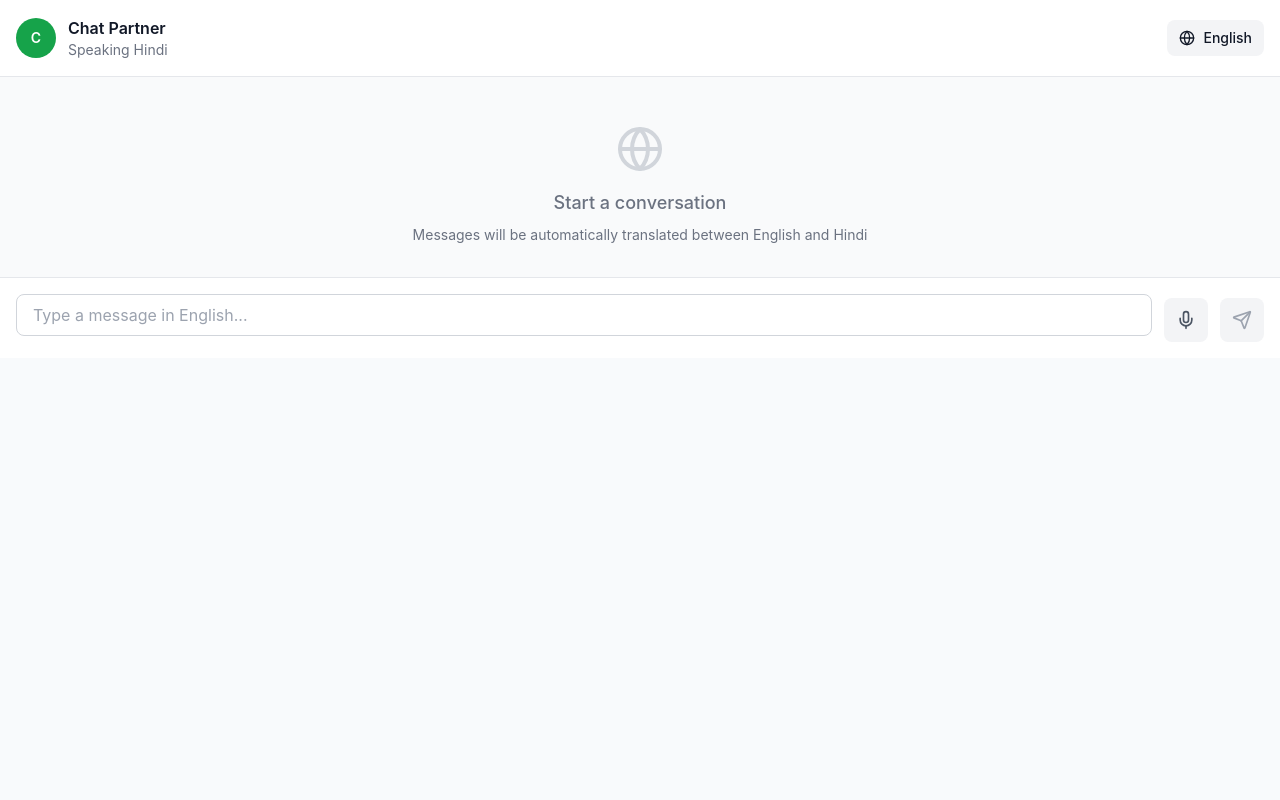
Test case: MultilingualChat › changes language selection
Click the button "English". click: {"x": 1216, "y": 38}
box: [1167,20,1264,56]
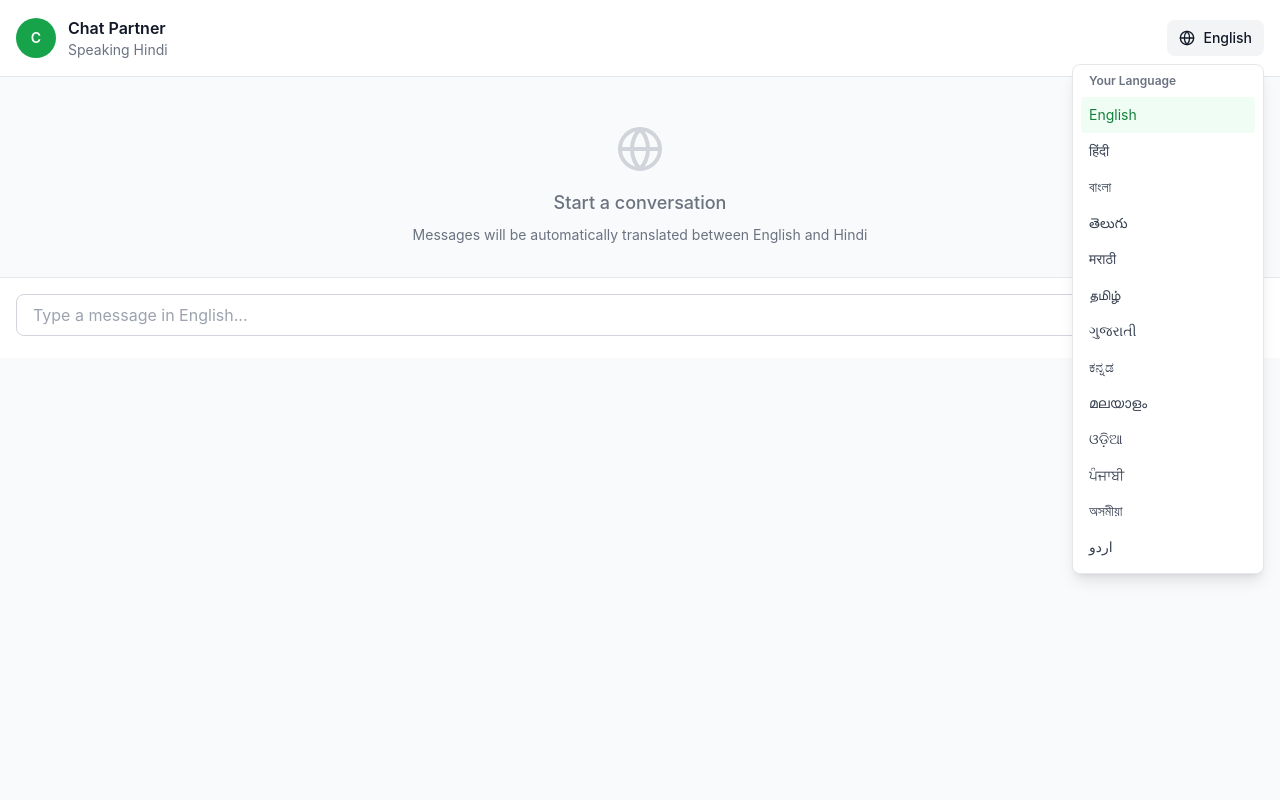
Expected: the text "Your Language" is shown, [1089,73,1176,88]
Expected: the button "हिंदी" is shown, [1081,133,1255,169]
